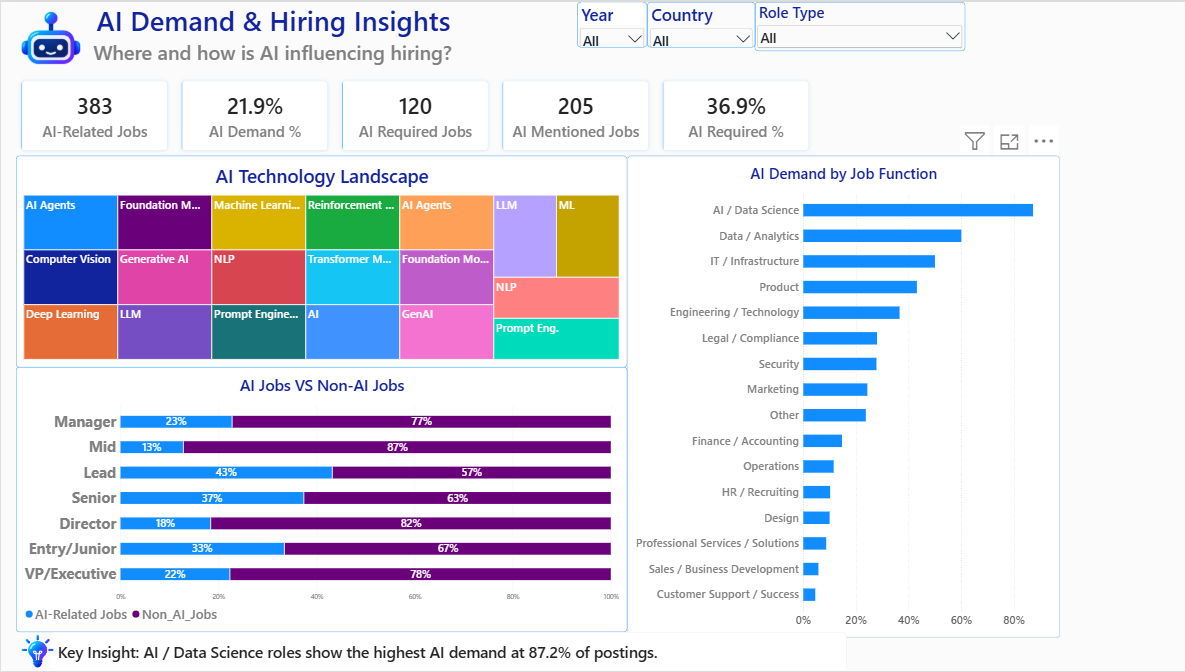

The dashboard page shown, as its layout file describes it:
{"tool":"powerbi","page":{"name":"Page 2","canvas":[2560,1440],"ordinal":1},"visuals":[{"type":"textbox","box":[173.9,0,1636.3,156.8],"z":0},{"type":"cardVisual","fields":{"Data":["my_jobs_db job_postings.AI-Related Jobs","my_jobs_db job_postings.AI Demand %","my_jobs_db job_postings.AI_Required_Jobs","my_jobs_db job_postings.AI_Mentioned_Jobs","my_jobs_db job_postings.AI Required % of AI-Mentioned Jobs"]},"box":[32.5,157.5,1717.5,172.5],"z":1000},{"type":"treemap","title":"AI Technology Landscape","fields":{"Values":["CountNonNull(my_jobs_db job_postings.ai_category_count)"],"Group":["AI Categories.AI Category Short"]},"box":[32.5,330,1315,455],"z":2000},{"type":"barChart","title":"AI Demand by  Job Function","fields":{"Category":["my_jobs_db job_postings.role_type"],"Y":["my_jobs_db job_postings.AI Demand %"]},"box":[1347.5,330,930,1037.5],"z":3000},{"type":"hundredPercentStackedBarChart","title":"AI Jobs VS Non-AI Jobs","fields":{"Category":["my_jobs_db job_postings.seniority"],"Y":["my_jobs_db job_postings.AI-Related Jobs","AI Categories.Non_AI_Jobs"]},"box":[32.5,785,1315,570],"z":3001},{"type":"slicer","fields":{"Values":["my_jobs_db job_postings.published_year"]},"box":[1240,0,150,97.5],"z":3002},{"type":"slicer","fields":{"Values":["my_jobs_db job_postings.country"]},"box":[1390,0,232.5,97.5],"z":3003},{"type":"slicer","fields":{"Values":["my_jobs_db job_postings.role_type"]},"box":[1622.5,0,452.4,105.6],"z":3004},{"type":"image","box":[0,0,215,157.5],"z":3005},{"type":"cardVisual","fields":{"Data":["AI Categories.AI Hiring Insight"]},"box":[105,1355,1715.8,83.1],"z":3006},{"type":"image","box":[0,1355,157.5,85],"z":3007}]}

Visuals, with their boxes in screenshot pixels (x1, y1, x2, y2), scaled from the page's 2560x1440 canvas onto the 1185x672 screenshot:
textbox: BBox(80, 0, 838, 73)
cardVisual - my_jobs_db job_postings.AI-Related Jobs x my_jobs_db job_postings.AI Demand %: BBox(15, 74, 810, 154)
"AI Technology Landscape" treemap: BBox(15, 154, 624, 366)
"AI Demand by  Job Function" barChart: BBox(624, 154, 1054, 638)
"AI Jobs VS Non-AI Jobs" hundredPercentStackedBarChart: BBox(15, 366, 624, 632)
slicer - my_jobs_db job_postings.published_year: BBox(574, 0, 643, 46)
slicer - my_jobs_db job_postings.country: BBox(643, 0, 751, 46)
slicer - my_jobs_db job_postings.role_type: BBox(751, 0, 960, 49)
image: BBox(0, 0, 100, 74)
cardVisual - AI Categories.AI Hiring Insight: BBox(49, 632, 843, 671)
image: BBox(0, 632, 73, 671)
